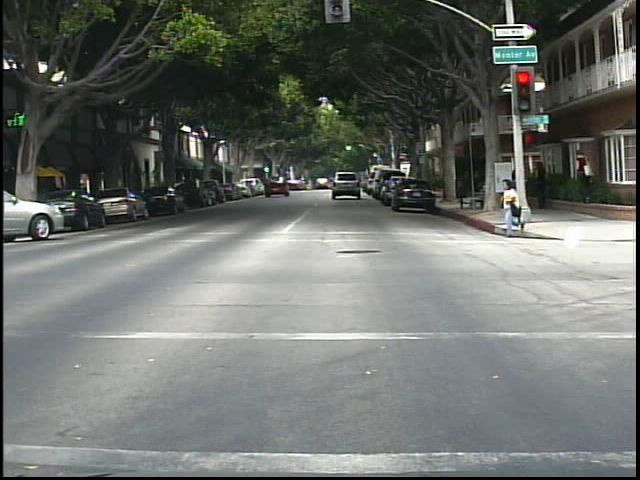person: (493, 171, 528, 239), (571, 146, 598, 205), (534, 155, 557, 212)
